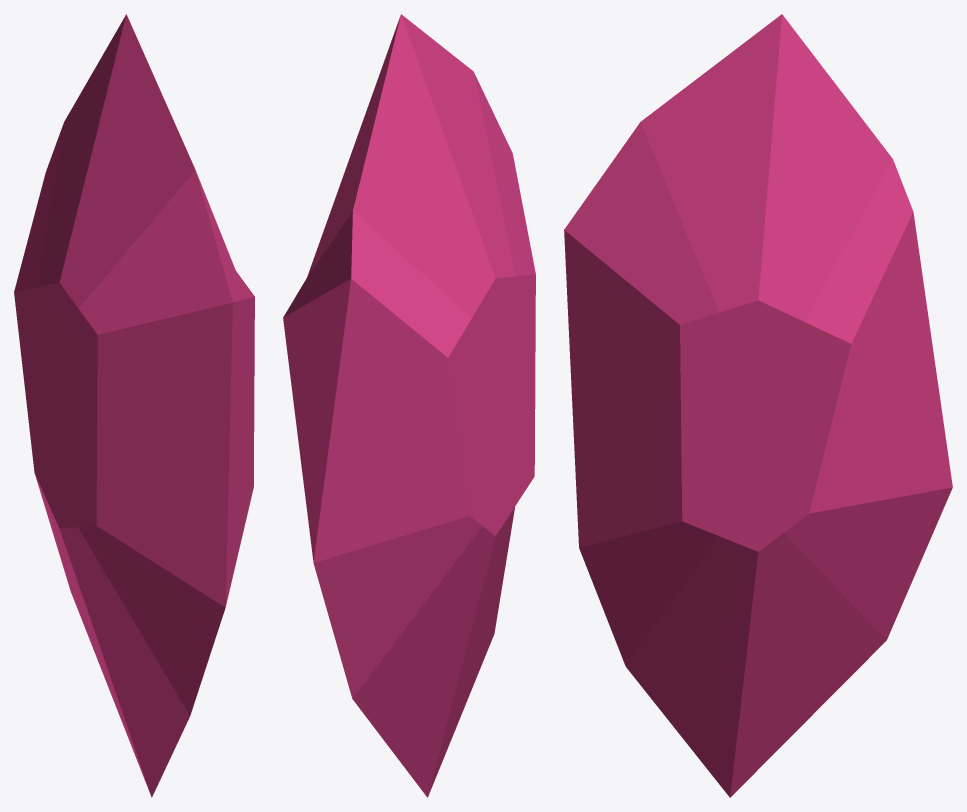
The model's file is crystal.obj.
The picture shows the model from 3 angles, left to right: view 1: azimuth 30°, elevation 25°; view 2: azimuth 150°, elevation 25°; view 3: azimuth 270°, elevation 25°; orthographic projection. The views are drawn at different scales.
Visible parts, largest first — view 1: Cube; view 2: Cube; view 3: Cube.
Part boxes in pixels (bbox=[...]): Cube: bbox=[14, 14, 254, 797]; Cube: bbox=[283, 14, 535, 797]; Cube: bbox=[564, 14, 952, 797].
Size of the model in its own units: 0.7792 by 3.62 by 1.63.
1 material, 1 textured.
